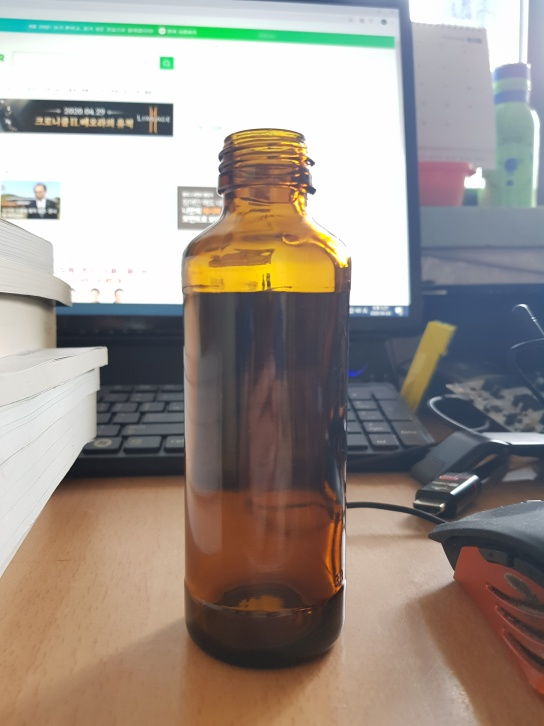Glass: (180, 128, 349, 672)
